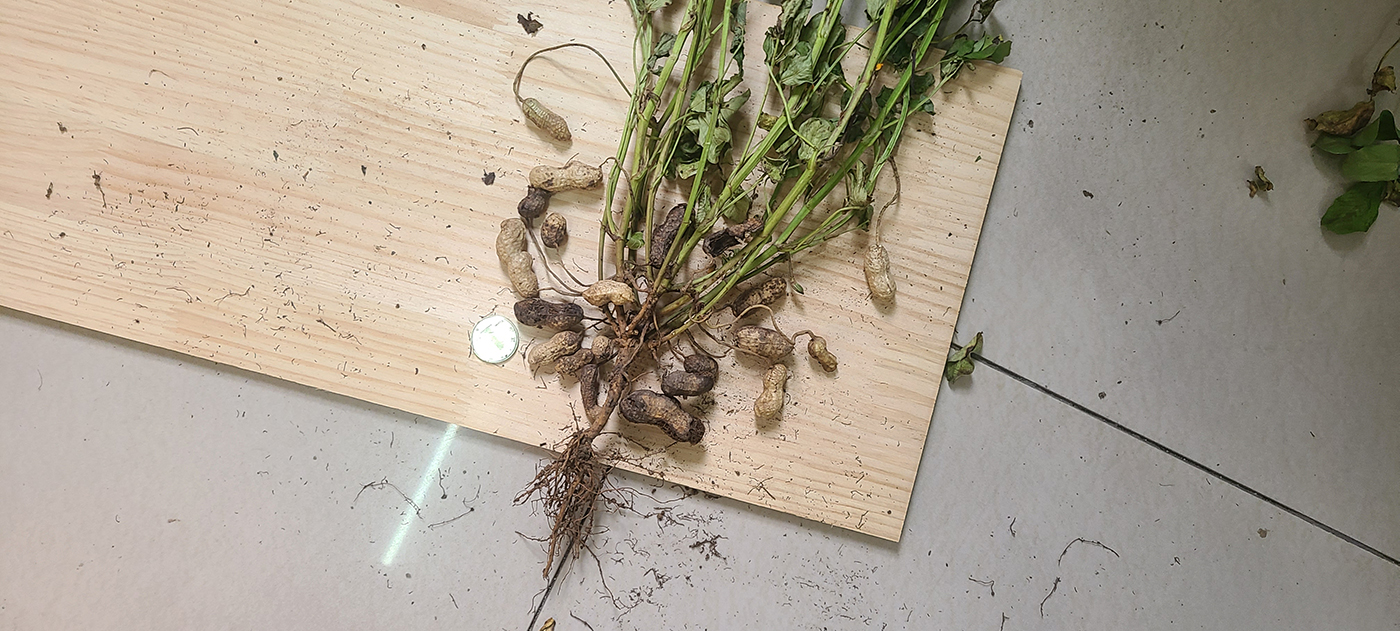h: (496, 218, 539, 297), (732, 323, 797, 362), (521, 97, 572, 146), (731, 277, 787, 319), (529, 161, 601, 191), (864, 242, 898, 303), (753, 365, 787, 423), (581, 280, 638, 306), (807, 336, 840, 373), (543, 213, 566, 250)
l: (618, 390, 705, 448), (647, 201, 694, 267), (702, 216, 765, 257), (528, 329, 580, 368), (515, 301, 583, 330), (662, 372, 709, 399), (578, 369, 601, 422), (682, 357, 719, 386), (558, 350, 596, 375), (518, 191, 550, 219), (590, 337, 611, 365)
